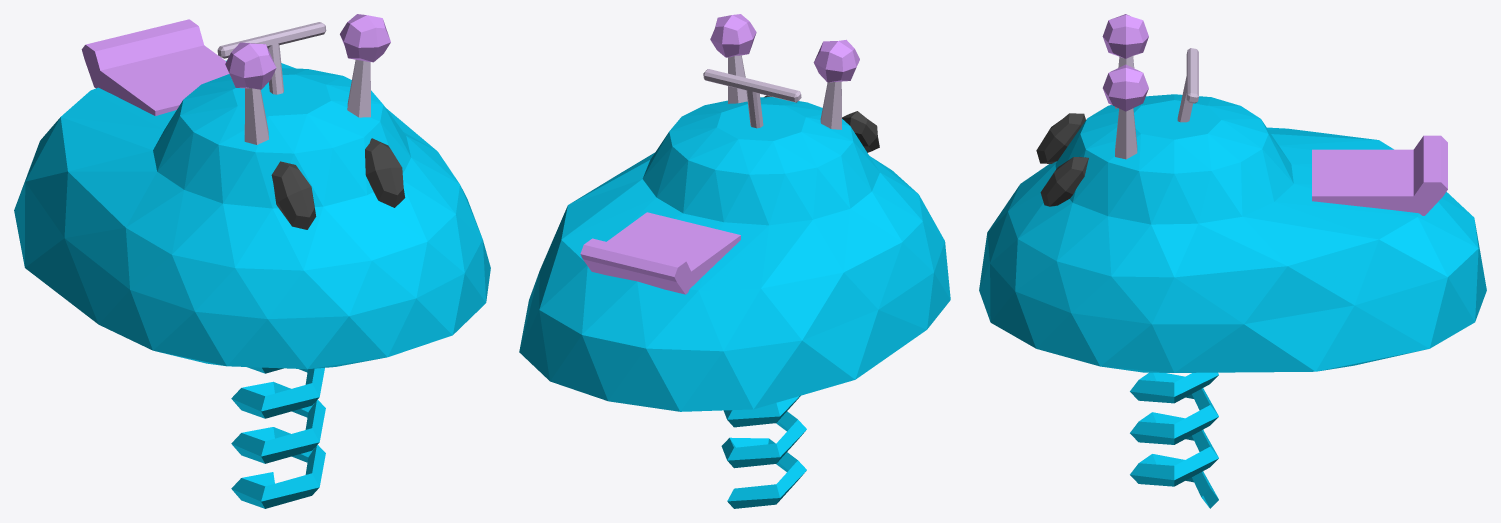
File: MD_ActionkomuSwing_prototype.fbx
The picture shows the model from 3 angles, left to right: view 1: azimuth 30°, elevation 25°; view 2: azimuth 150°, elevation 25°; view 3: azimuth 270°, elevation 25°; orthographic projection. The views are drawn at different scales.
Parts seen in each view (by area): view 1: pCylinder2, pCube4, pHelix1, pCube5, pCube2, pCylinder3, pCube3; view 2: pCylinder2, pCube4, pHelix1, pCube2, pCube3, pCylinder3, pCube5; view 3: pCylinder2, pCube4, pHelix1, pCube2, pCube5, pCylinder3, pCube3.
Boxes of the visible parts, x1,y1,x2,y2 form: pCylinder2: (14,60,490,369); pCube4: (81,19,229,115); pHelix1: (231,367,325,508); pCube5: (271,138,405,229); pCube2: (225,14,390,89); pCylinder3: (244,60,370,144); pCube3: (217,22,326,94); pCylinder2: (519,97,950,411); pCube4: (580,212,740,294); pHelix1: (721,395,806,508); pCube2: (710,14,859,82); pCube3: (703,69,801,128); pCylinder3: (728,55,841,129); pCube5: (764,95,879,152); pCylinder2: (979,94,1486,372); pCube4: (1312,135,1447,215); pHelix1: (1130,372,1218,508); pCube2: (1102,14,1148,111); pCube5: (1036,113,1088,206); pCylinder3: (1115,56,1137,159); pCube3: (1177,48,1198,122).
Size of the model in its own units: 122 by 159 by 158.
